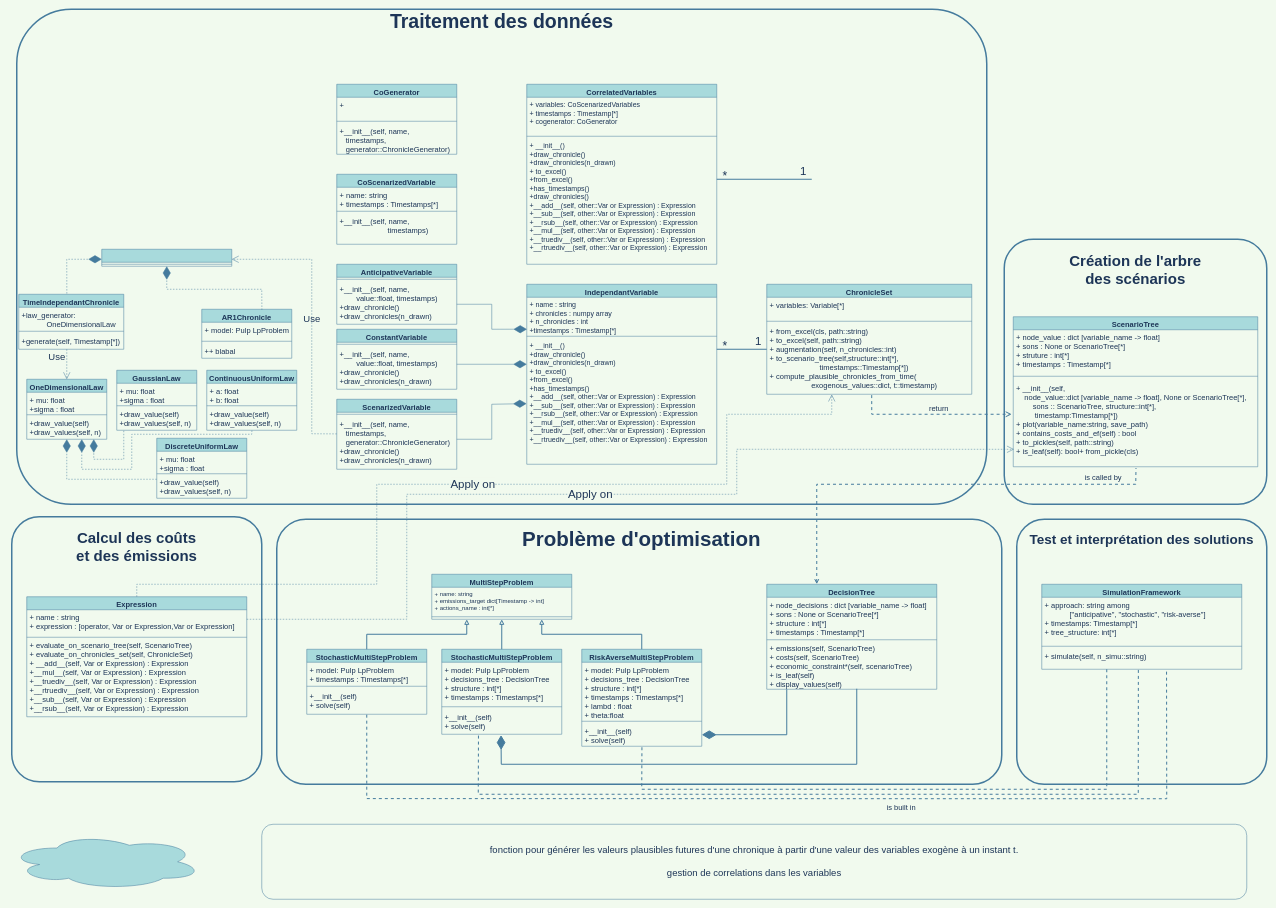
Some shapes in this 1276 by 908 pixel diagram are drawn without their labels. The centre of each missing label's shape, as x and y in pixels:
A Ajouter: (105,861)
ChronicleGenerator: (166,257)
